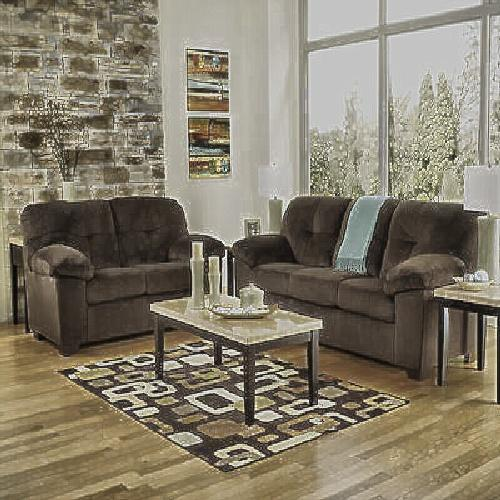sofa: (251, 190, 473, 361), (34, 193, 213, 334)
